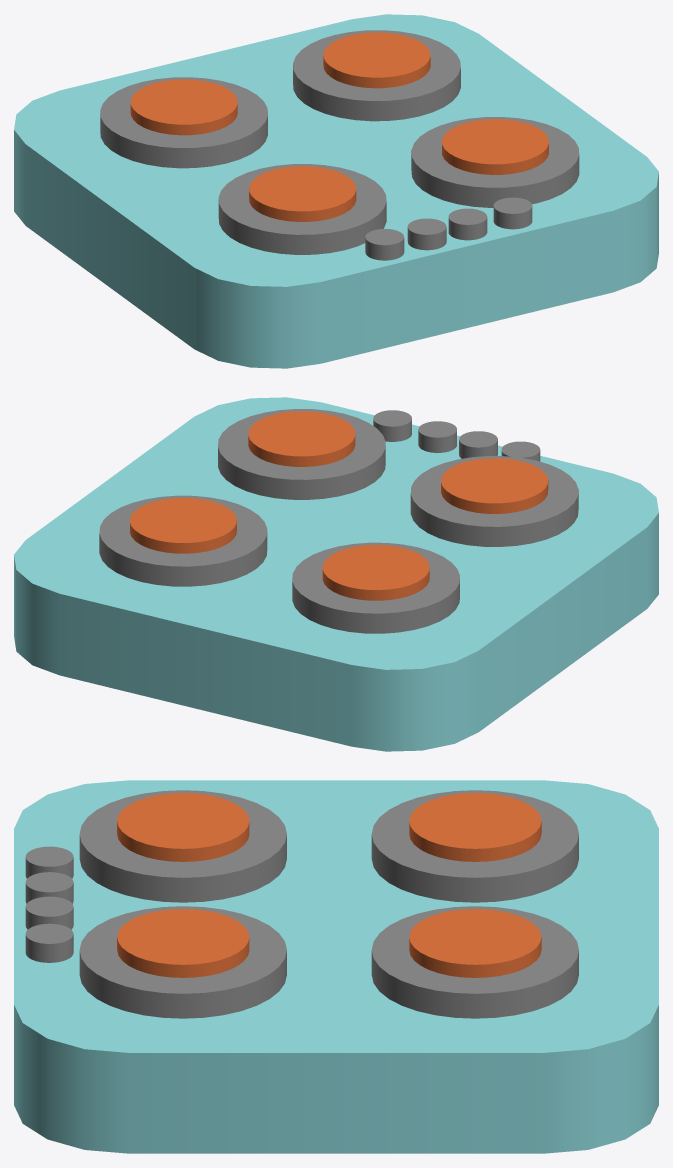
The model's file is furnace01_.fbx.
3 views of the same model, one above another, from view 1: azimuth 30°, elevation 25°; view 2: azimuth 150°, elevation 25°; view 3: azimuth 270°, elevation 25° (orthographic). The views are drawn at different scales.
Parts seen in each view (by area): view 1: furnace01_; view 2: furnace01_; view 3: furnace01_.
Part boxes in pixels (x1,y1,x2,y2): furnace01_: (14,14,658,368); furnace01_: (14,397,658,751); furnace01_: (14,780,658,1153).
Size of the model in its own units: 200 by 47.44 by 200.
